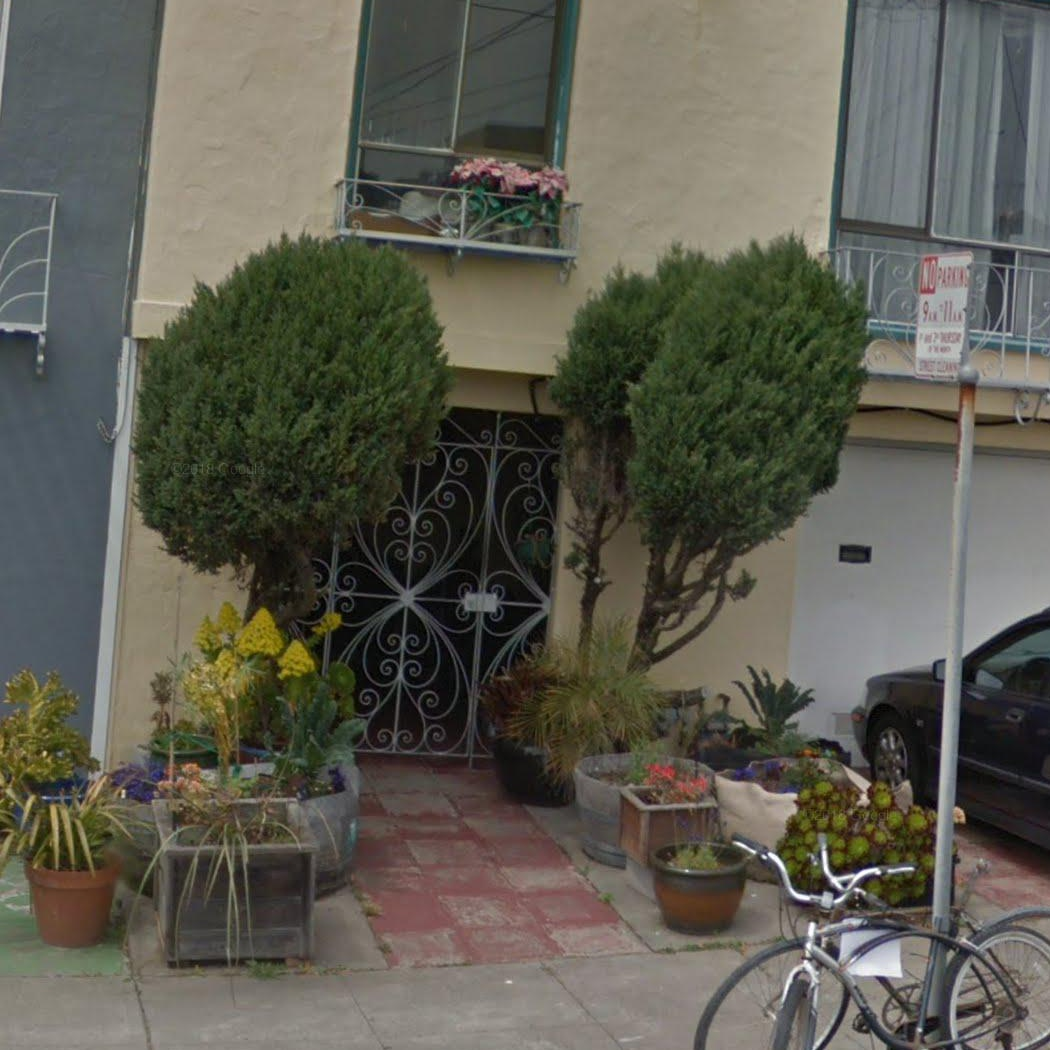No Parking: (912, 250, 976, 384)
